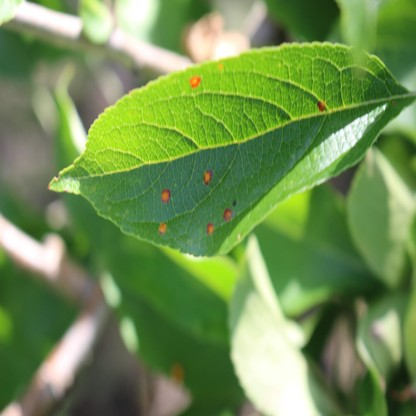rust: (168, 360, 184, 387), (189, 75, 201, 88), (204, 168, 212, 185), (160, 189, 170, 202), (317, 99, 326, 111), (223, 207, 232, 219), (206, 222, 214, 235), (158, 223, 167, 234), (217, 62, 223, 70)
